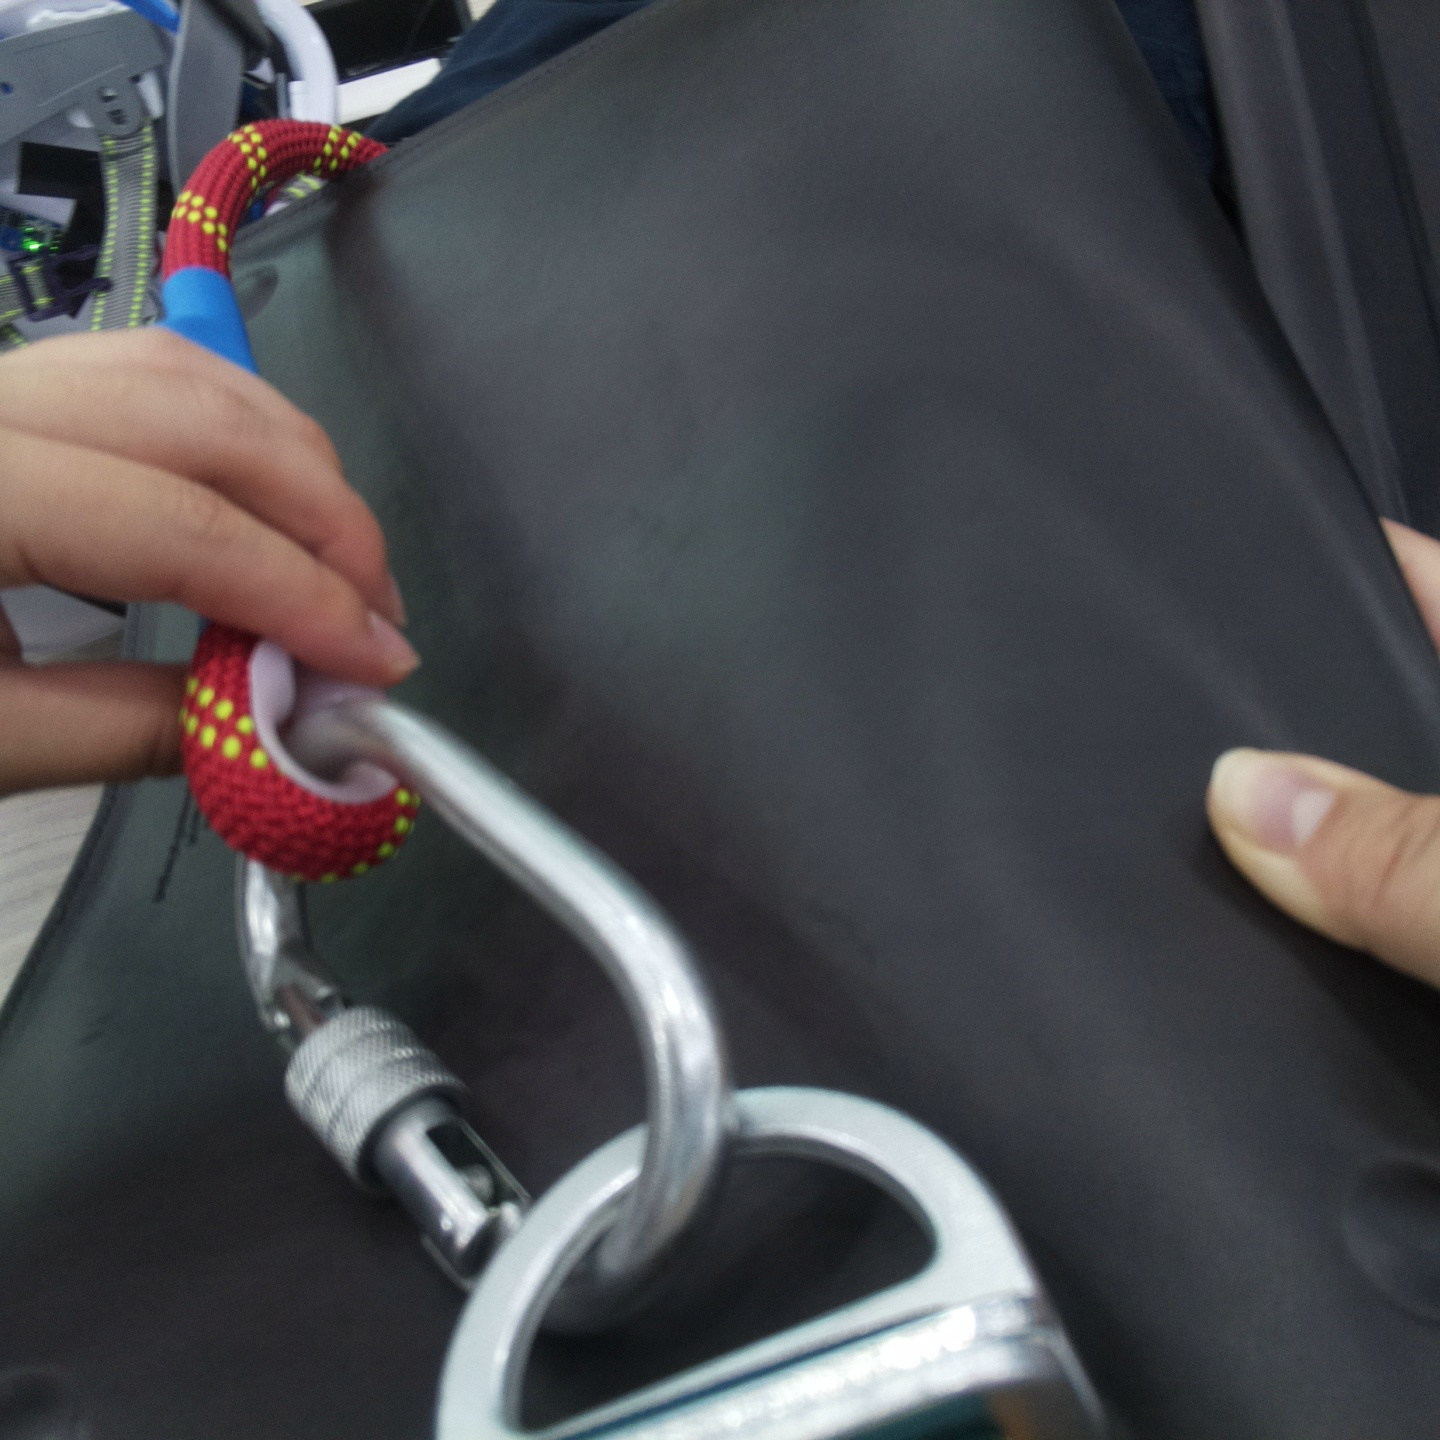SUCCESS: (248, 915, 1129, 1399)
